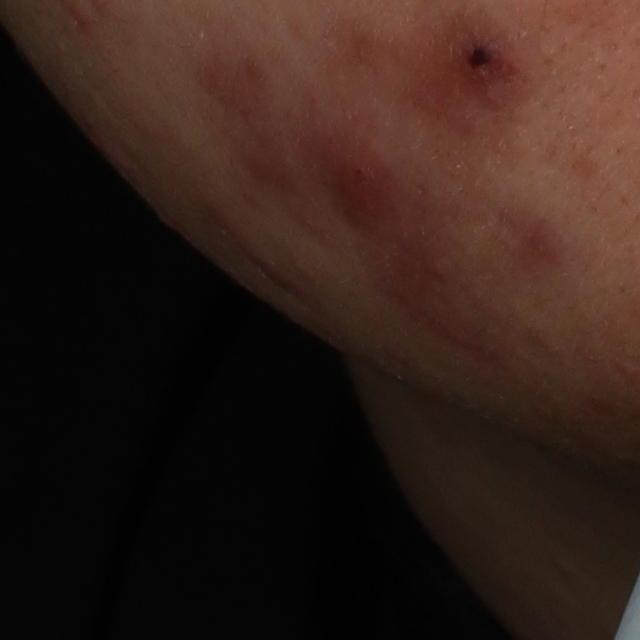papule: (452, 31, 512, 91)
